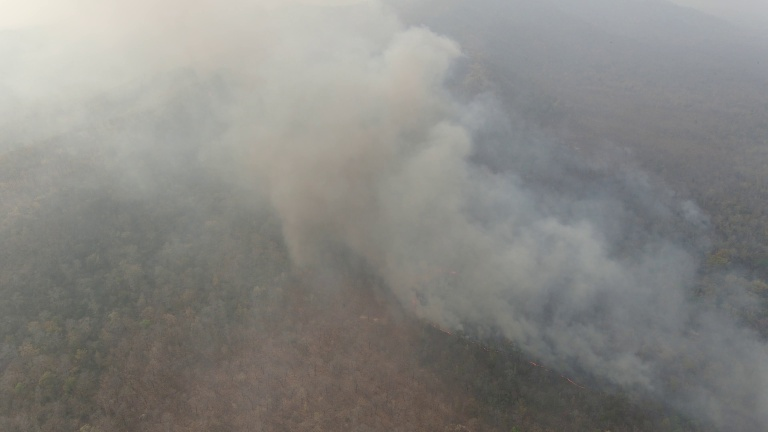fire: (530, 359, 590, 394), (423, 319, 492, 349)
smoke: (215, 35, 543, 337), (512, 201, 768, 411)
